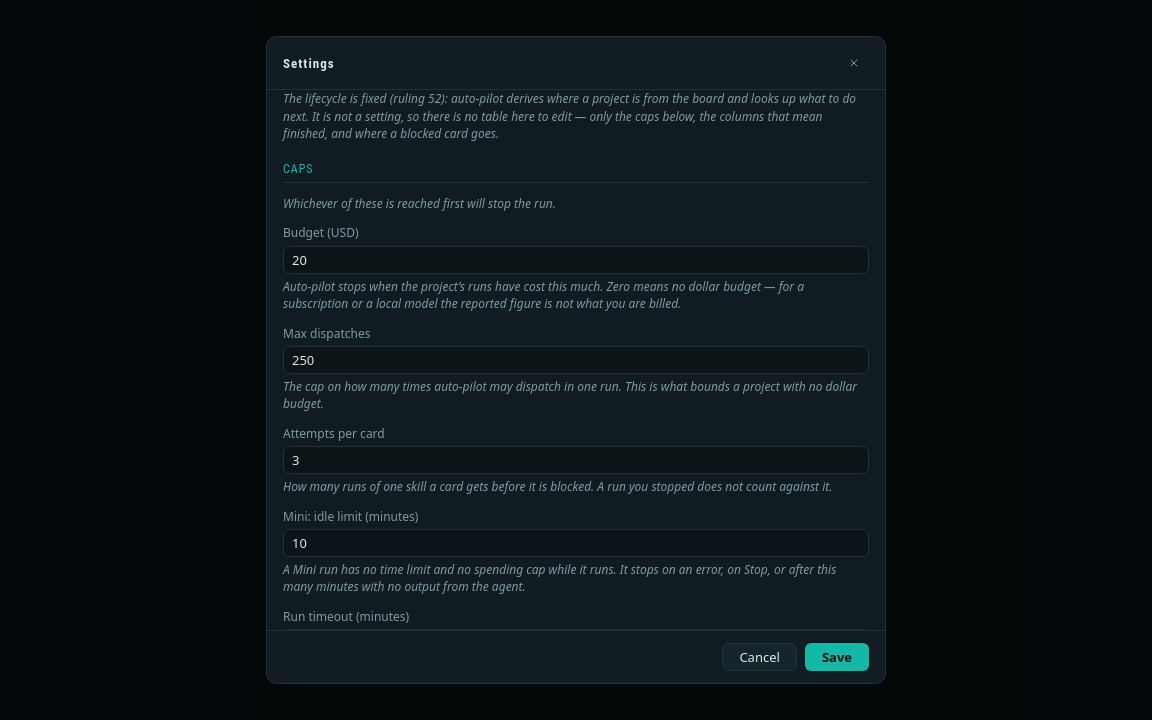
Test: saving the caps › shows the server’s refusal rather than swallowing it
(page scrolled)
Replace the text in the 2nd number field with "3" at (576, 360), box x1=283 y1=346 x2=869 y2=374
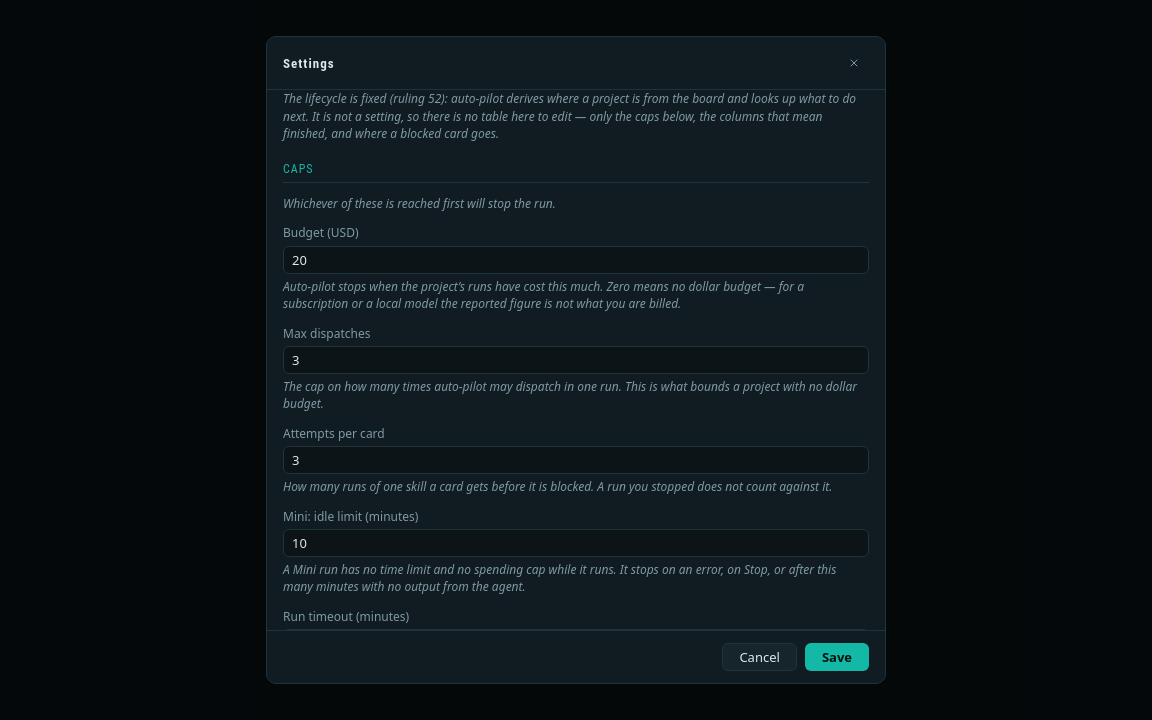
Click the button "Save" at (837, 657), box x1=805 y1=643 x2=869 y2=671
(page scrolled)
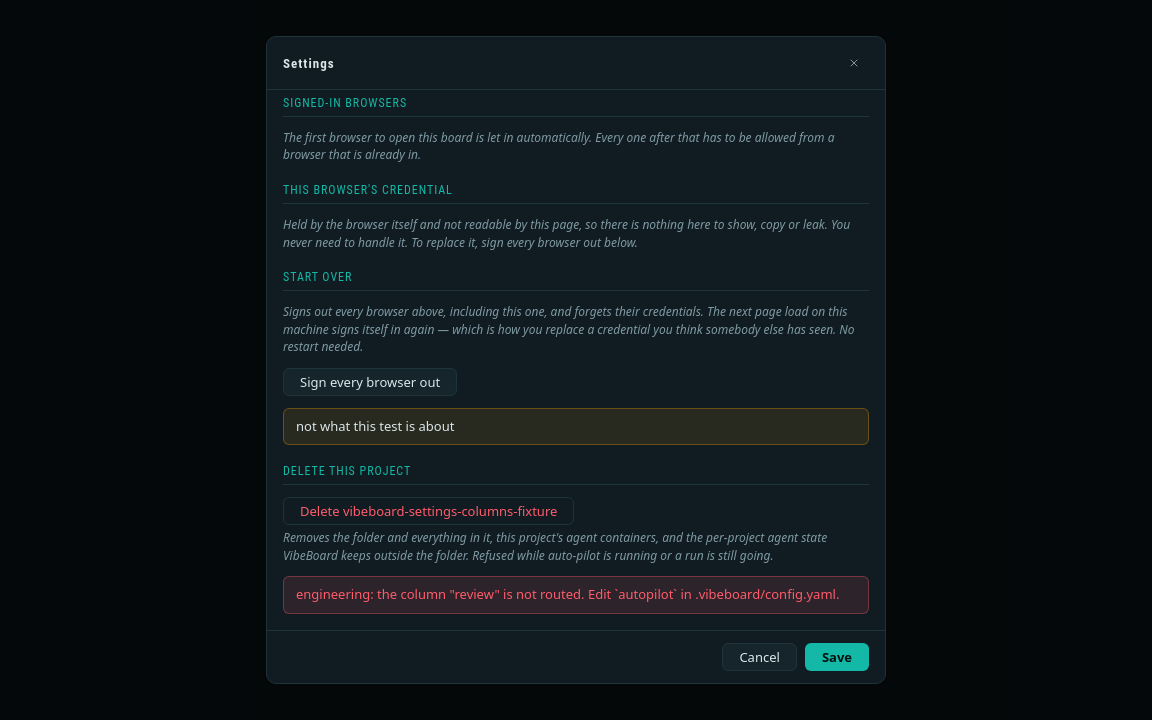
Expected: the text "is not routed" is shown, x1=296 y1=585 x2=839 y2=603
